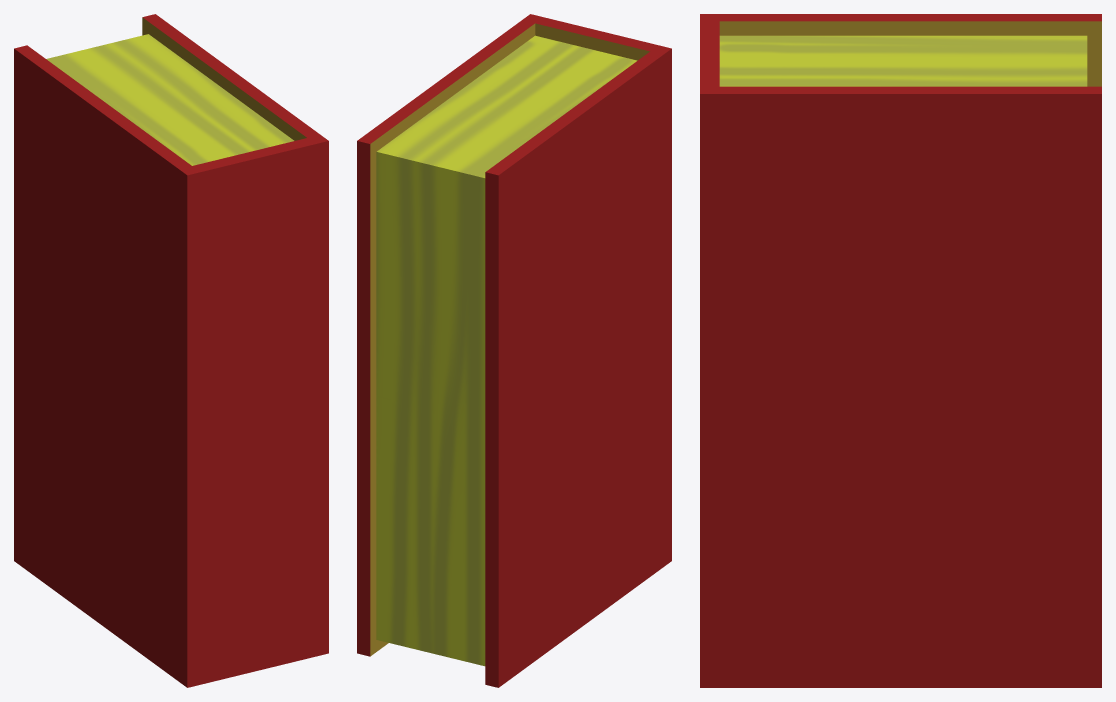
Rendered from book.fbx.
3 renders of one model, left to right at view 1: azimuth 30°, elevation 25°; view 2: azimuth 150°, elevation 25°; view 3: azimuth 270°, elevation 25°, orthographic. The views are drawn at different scales.
Parts seen in each view (by area): view 1: book; view 2: book; view 3: book.
Boxes of the visible parts, x1,y1,x2,y2 form: book: (14,14,328,687); book: (357,14,671,687); book: (700,14,1101,687).
Size of the model in its own units: 62.35 by 216 by 132.
1 material, 1 textured.
